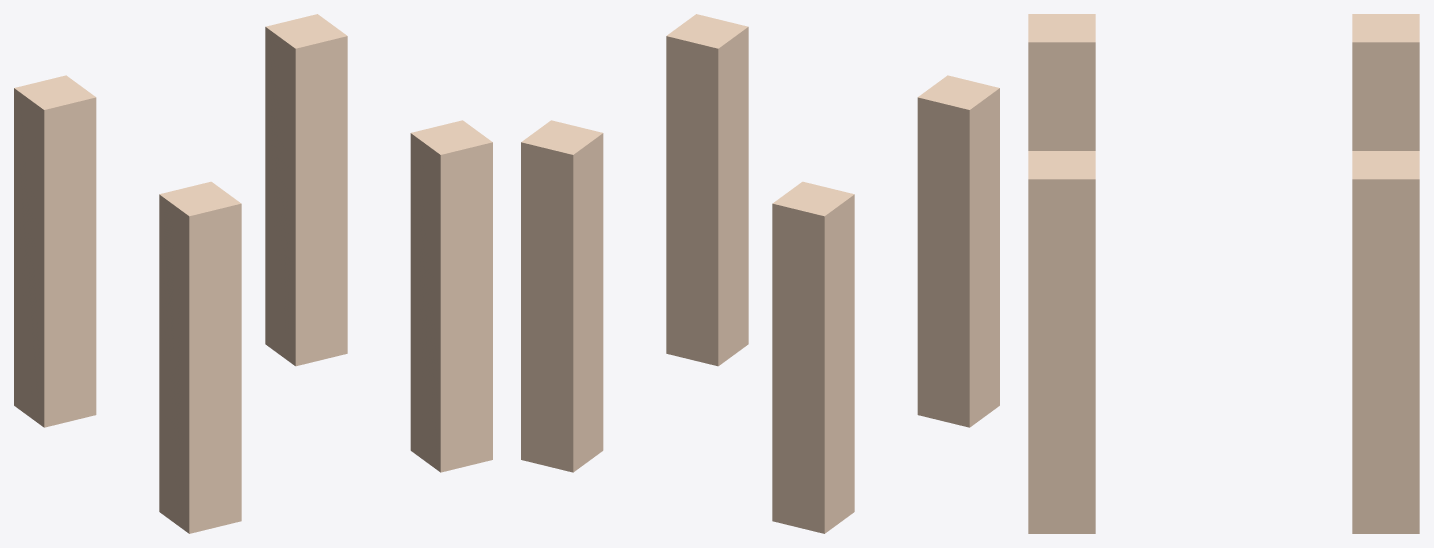
File: Abstract_Castle_Block_1_Unit_Beige_Columns_01.fbx
The picture shows the model from 3 angles, left to right: view 1: azimuth 30°, elevation 25°; view 2: azimuth 150°, elevation 25°; view 3: azimuth 270°, elevation 25°; orthographic projection. The views are drawn at different scales.
Visible parts, largest first — view 1: Abstract_Castle_Block_1_Unit_Beige_Columns_01; view 2: Abstract_Castle_Block_1_Unit_Beige_Columns_01; view 3: Abstract_Castle_Block_1_Unit_Beige_Columns_01.
Part boxes in pixels (<box>): Abstract_Castle_Block_1_Unit_Beige_Columns_01: <box>14,14,492,533</box>; Abstract_Castle_Block_1_Unit_Beige_Columns_01: <box>521,14,999,533</box>; Abstract_Castle_Block_1_Unit_Beige_Columns_01: <box>1028,14,1419,533</box>.
Bounding box in the file's own units: 98.43 × 98.43 × 98.43.
